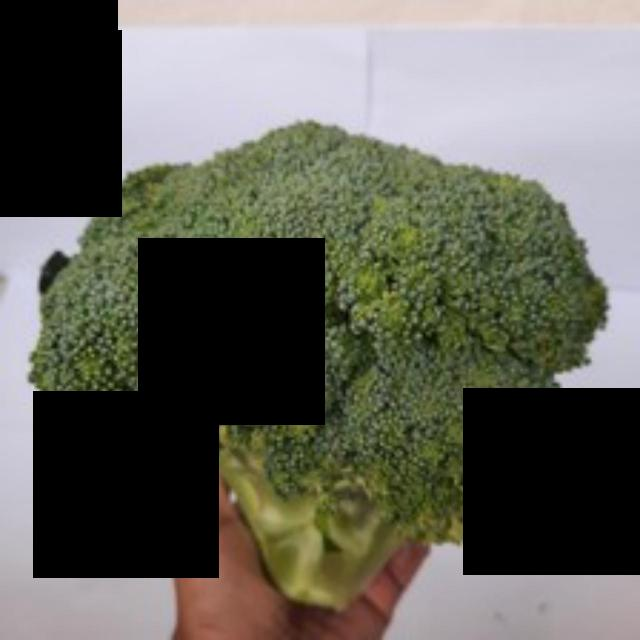broccoli: (39, 105, 623, 619)
